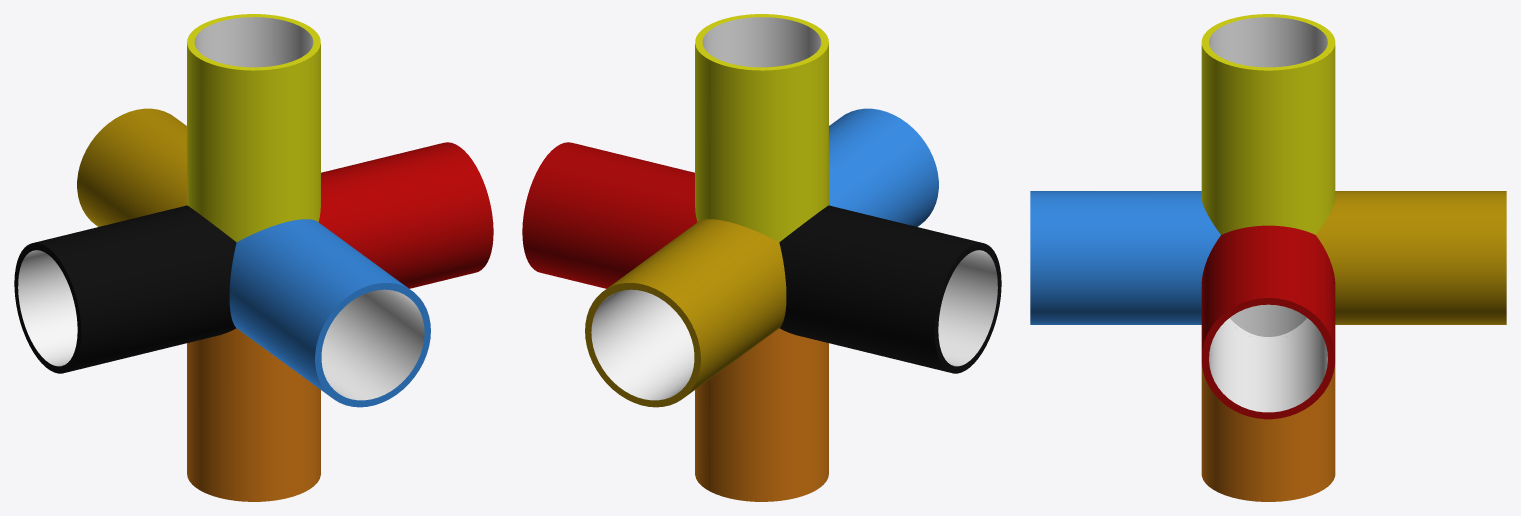
Rendered from 4cross.glb.
3 renders of one model, left to right at view 1: azimuth 30°, elevation 25°; view 2: azimuth 150°, elevation 25°; view 3: azimuth 270°, elevation 25°, orthographic.
Parts seen in each view (by area): view 1: hole3, hole1, hole5, hole2, hole4, hole51; view 2: hole3, hole1, hole51, hole2, hole4, hole5; view 3: hole1, hole5, hole51, hole4, hole2.
Part boxes in pixels (bbox=[...]): hole3: bbox=[14, 205, 236, 373]; hole1: bbox=[187, 14, 320, 242]; hole5: bbox=[229, 219, 430, 407]; hole2: bbox=[187, 328, 320, 501]; hole4: bbox=[318, 142, 493, 288]; hole51: bbox=[77, 108, 186, 226]; hole3: bbox=[779, 205, 1001, 373]; hole1: bbox=[695, 14, 828, 242]; hole51: bbox=[585, 219, 786, 407]; hole2: bbox=[695, 328, 828, 501]; hole4: bbox=[522, 142, 697, 288]; hole5: bbox=[829, 108, 938, 226]; hole1: bbox=[1201, 14, 1335, 234]; hole5: bbox=[1030, 191, 1231, 324]; hole51: bbox=[1305, 191, 1506, 324]; hole4: bbox=[1201, 225, 1335, 419]; hole2: bbox=[1201, 304, 1335, 501].
Size of the model in its own units: 0.2032 by 0.2032 by 0.2032.
